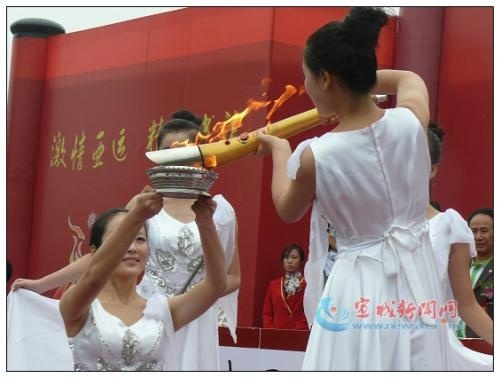fire: (176, 76, 299, 146)
